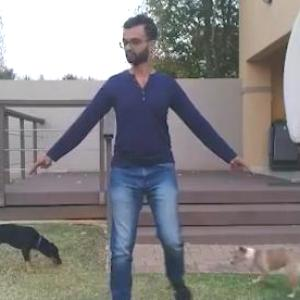land: (58, 34, 226, 299)
